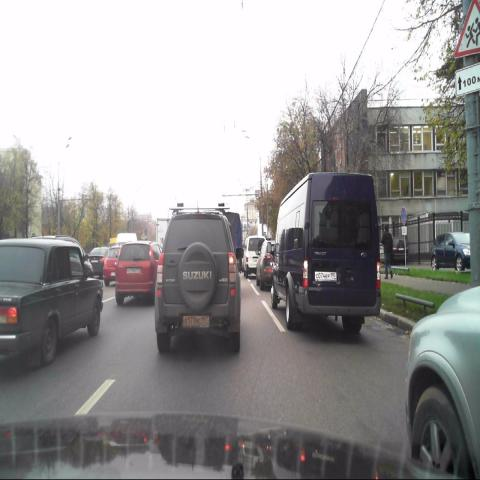8_2_1: (455, 62, 480, 97)
